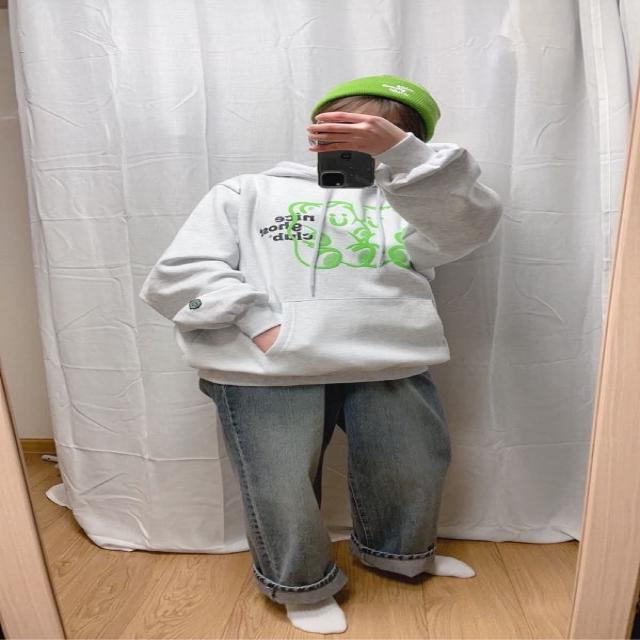denimpants: (204, 367, 450, 607)
hoodies: (141, 134, 501, 384)
